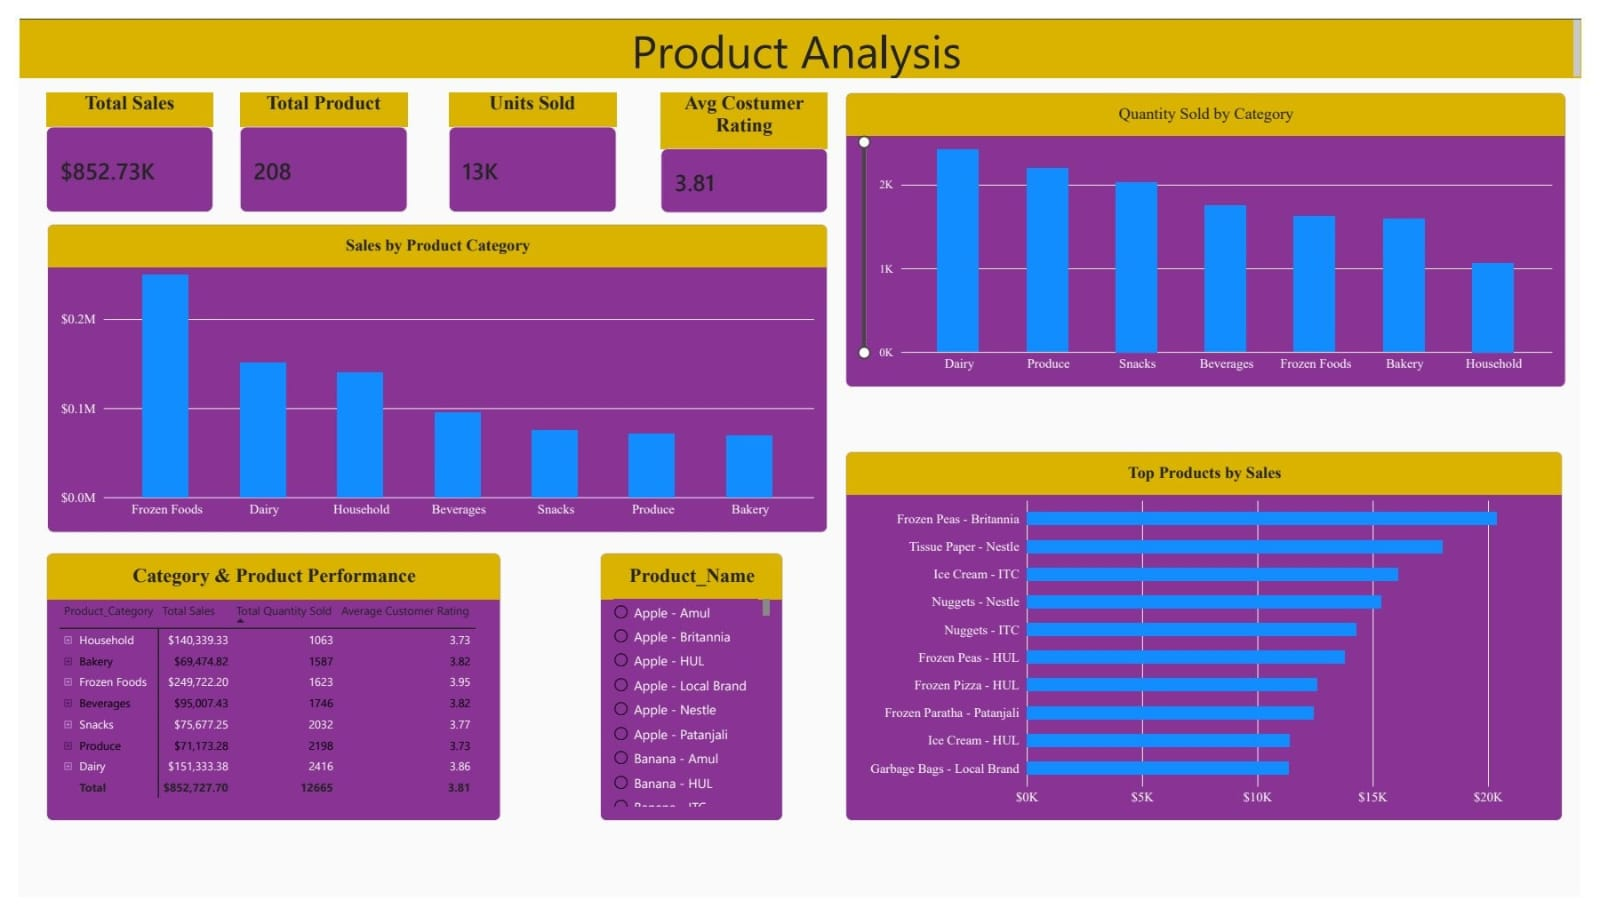

The dashboard page shown, as its layout file describes it:
{"tool":"powerbi","page":{"name":"Product Analysis","canvas":[1920,1080],"ordinal":1},"visuals":[{"type":"textbox","box":[0,0,1920.5,71.5],"z":0},{"type":"cardVisual","title":"Total Sales","fields":{"Data":["Measures Table.Total Sales"]},"box":[33,89.9,205.4,148.6],"z":1000},{"type":"cardVisual","title":"Total Product","fields":{"Data":["Measures Table.Total Products"]},"box":[271.5,89.9,205.4,148.6],"z":2000},{"type":"cardVisual","title":"Units Sold","fields":{"Data":["Measures Table.Total Quantity Sold"]},"box":[528.3,89.9,205.4,148.6],"z":3000},{"type":"cardVisual","title":"Avg Costumer Rating","fields":{"Data":["Measures Table.Average Customer Rating"]},"box":[788.7,89.9,205.4,148.6],"z":4000},{"type":"clusteredColumnChart","title":"Sales by Product Category","fields":{"Category":["Product.Product_Category"],"Y":["Measures Table.Total Sales"]},"box":[34,252,960,380],"z":5000},{"type":"clusteredColumnChart","title":"Quantity Sold by Category","fields":{"Category":["Product.Product_Category"],"Y":["Measures Table.Total Quantity Sold"]},"box":[1016.2,89.9,885.9,363.2],"z":6000},{"type":"clusteredBarChart","title":"Top Products by Sales","fields":{"Category":["Product.Product_Name"],"Y":["Measures Table.Total Sales"]},"box":[1016.2,531.9,882.3,454.9],"z":7000},{"type":"listSlicer","fields":{"Values":["Product.Product_Name"]},"box":[713.5,656.7,225.6,330.2],"z":8000},{"type":"pivotTable","title":"Category & Product Performance","fields":{"Rows":["Product.Product_Category","Product.Product_Name"],"Values":["Measures Table.Total Sales","Measures Table.Total Quantity Sold","Measures Table.Average Customer Rating"]},"box":[33,656.7,559.4,330.2],"z":9001}]}

Visuals, with their boxes in screenshot pixels (x1, y1, x2, y2), scaled from the page's 1920x1080 canvas onto the 1600x916 screenshot:
textbox: detection(0, 0, 1599, 61)
"Total Sales" cardVisual: detection(28, 76, 199, 202)
"Total Product" cardVisual: detection(226, 76, 397, 202)
"Units Sold" cardVisual: detection(440, 76, 611, 202)
"Avg Costumer Rating" cardVisual: detection(657, 76, 828, 202)
"Sales by Product Category" clusteredColumnChart: detection(28, 214, 828, 536)
"Quantity Sold by Category" clusteredColumnChart: detection(847, 76, 1585, 384)
"Top Products by Sales" clusteredBarChart: detection(847, 451, 1582, 837)
listSlicer - Product.Product_Name: detection(595, 557, 783, 837)
"Category & Product Performance" pivotTable: detection(28, 557, 494, 837)
